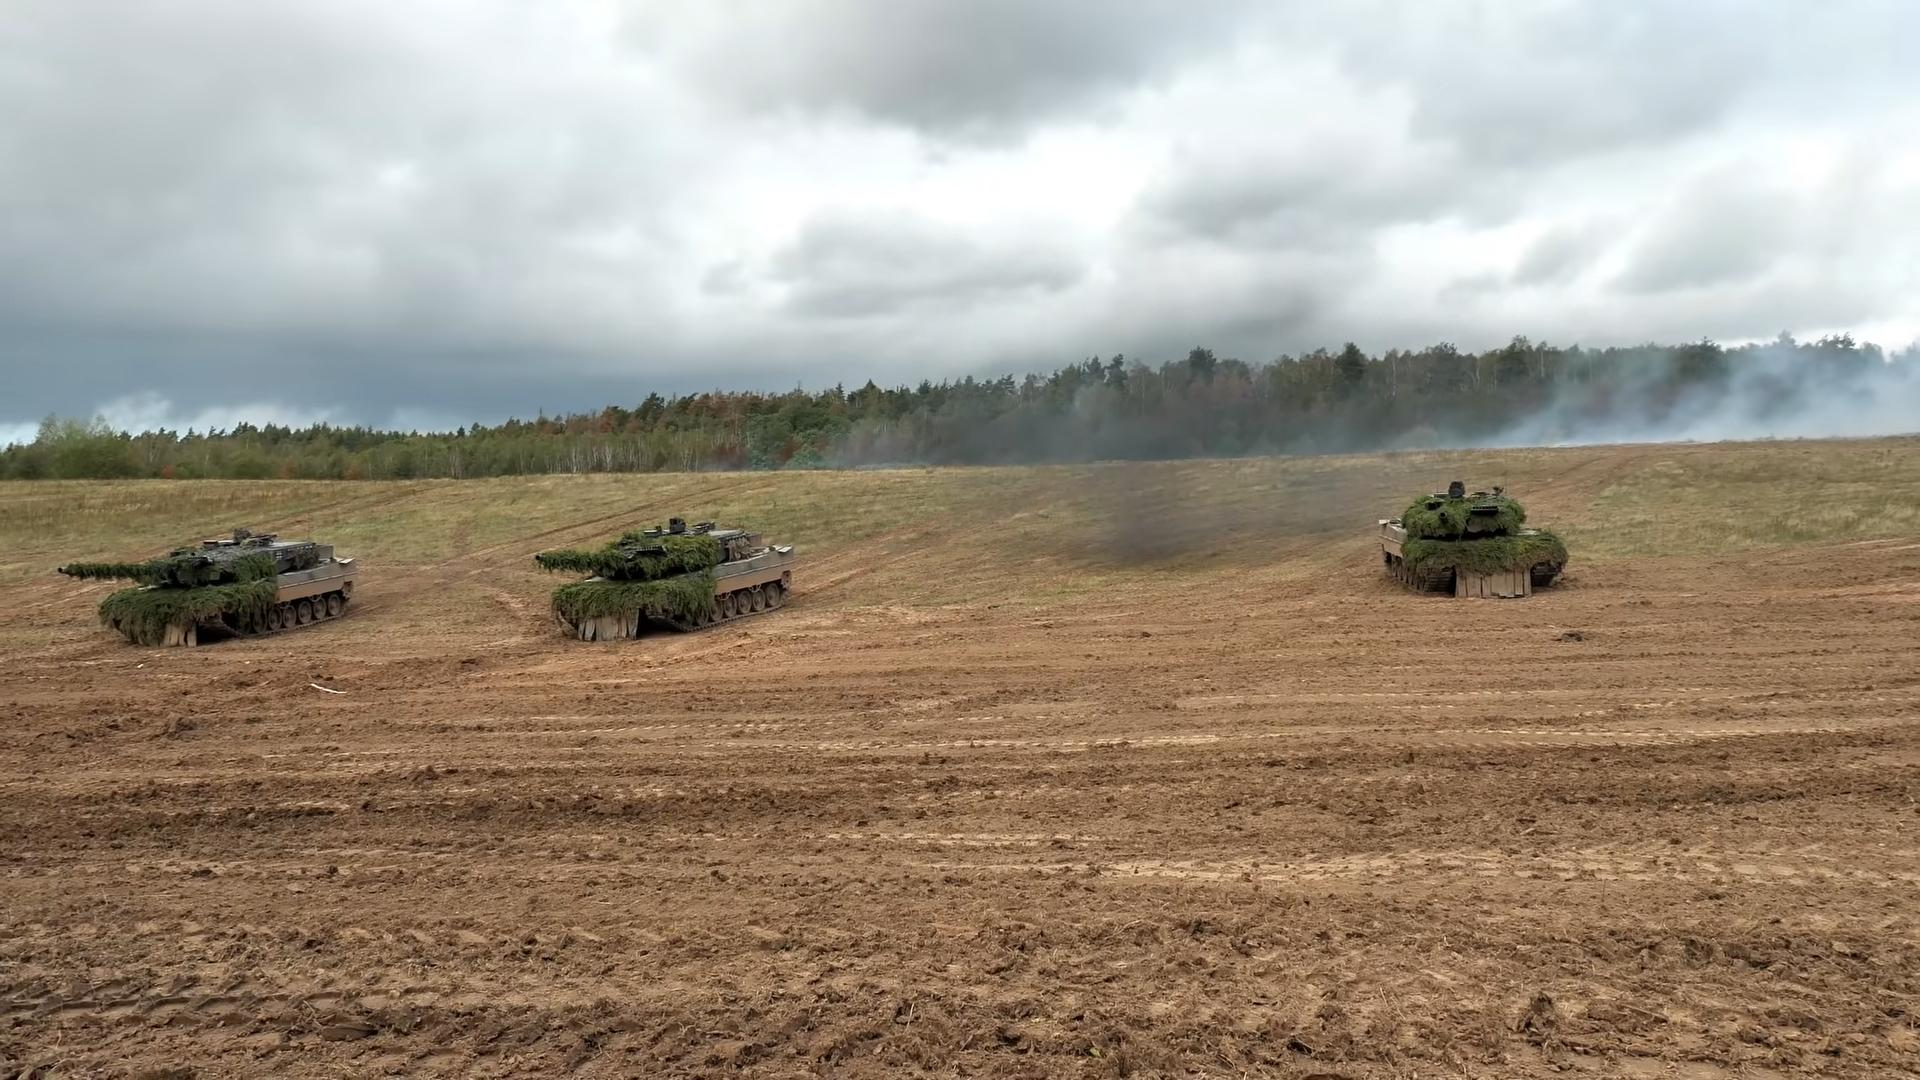tank: (59, 527, 357, 646), (534, 520, 800, 640), (1379, 480, 1569, 599)
